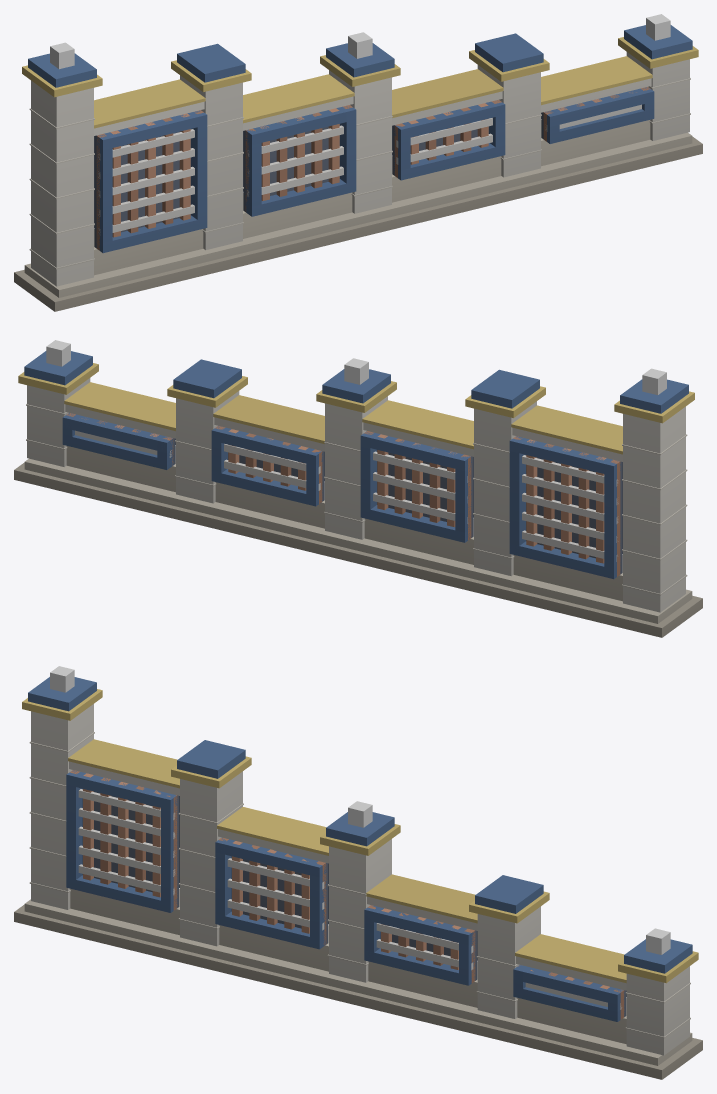
Rendered from gate_wing.glb.
The picture shows the model from 3 angles, top to bottom: view 1: azimuth 30°, elevation 25°; view 2: azimuth 150°, elevation 25°; view 3: azimuth 330°, elevation 25°; orthographic projection.
Parts seen in each view (by area): view 1: gate_wing; view 2: gate_wing; view 3: gate_wing.
Part boxes in pixels (box(x1,y1,x2,y2)): gate_wing: box(14, 14, 702, 311); gate_wing: box(14, 340, 702, 637); gate_wing: box(14, 666, 702, 1079).
Bounding box in the file's own units: 17.4 × 6.22 × 1.9.
